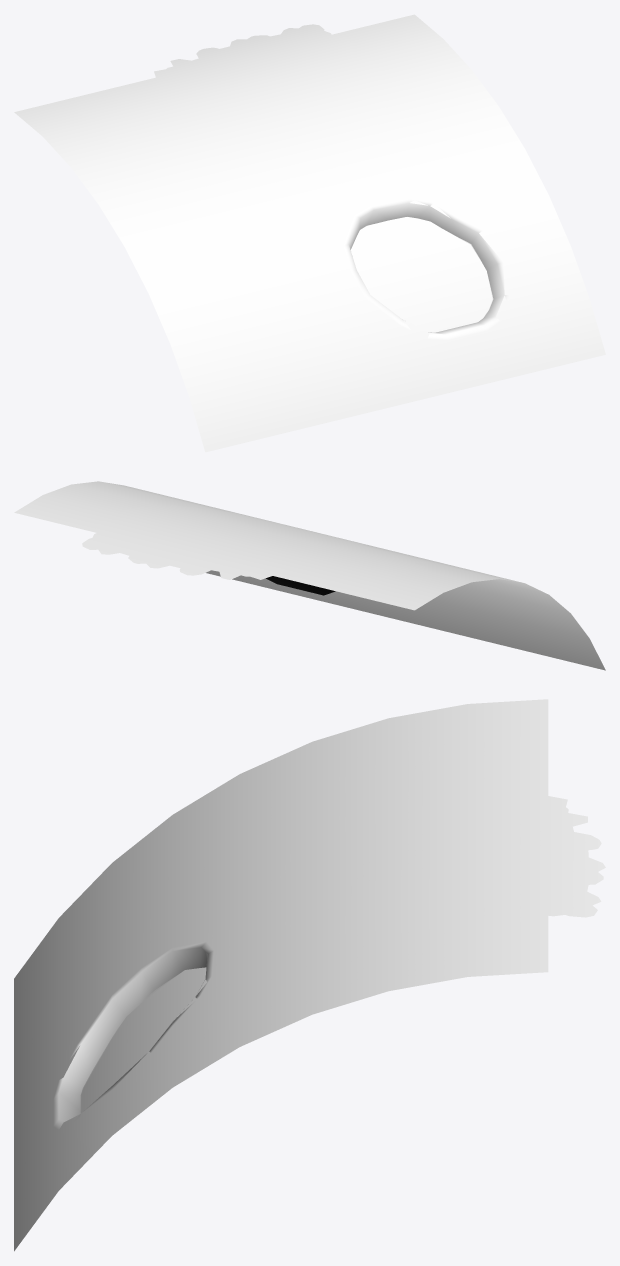
File: grd_F_S_2.dae
The picture shows the model from 3 angles, top to bottom: view 1: azimuth 30°, elevation 25°; view 2: azimuth 150°, elevation 25°; view 3: azimuth 270°, elevation 25°; orthographic projection. The views are drawn at different scales.
Visible parts, largest first — view 1: grd_F_S_2; view 2: grd_F_S_2; view 3: grd_F_S_2.
Boxes of the visible parts, left/top/right/bottom form: grd_F_S_2: left=14, top=14, right=605, bottom=452; grd_F_S_2: left=14, top=481, right=605, bottom=670; grd_F_S_2: left=14, top=699, right=605, bottom=1251.
Size of the model in its own units: 512 by 244 by 469.
Materials: 5 (1 with a texture image).
